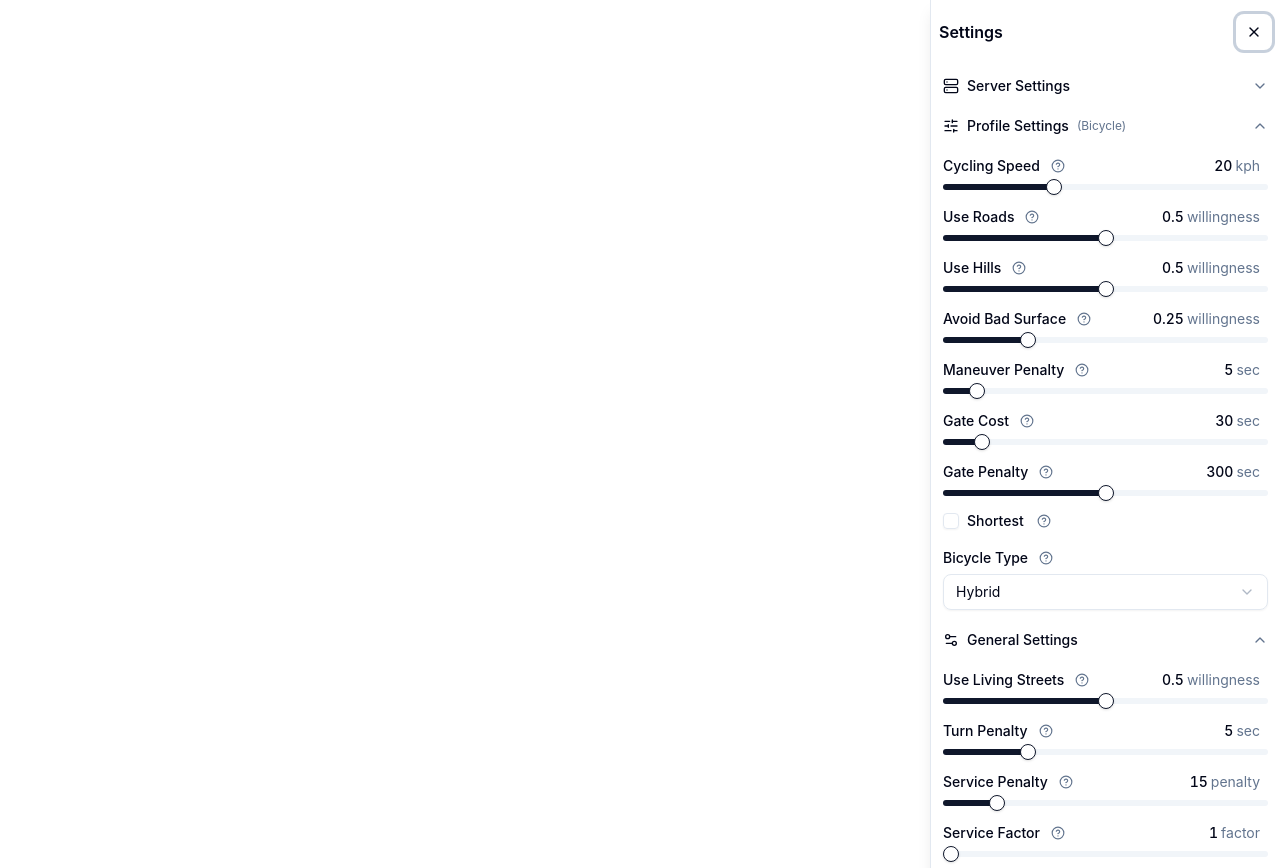
SettingsPanel › Server Settings › should show error for invalid URL format on blur
The image size is (1280, 868).
Click the button "Server Settings" at (1018, 86), box [943,72,1268,100]
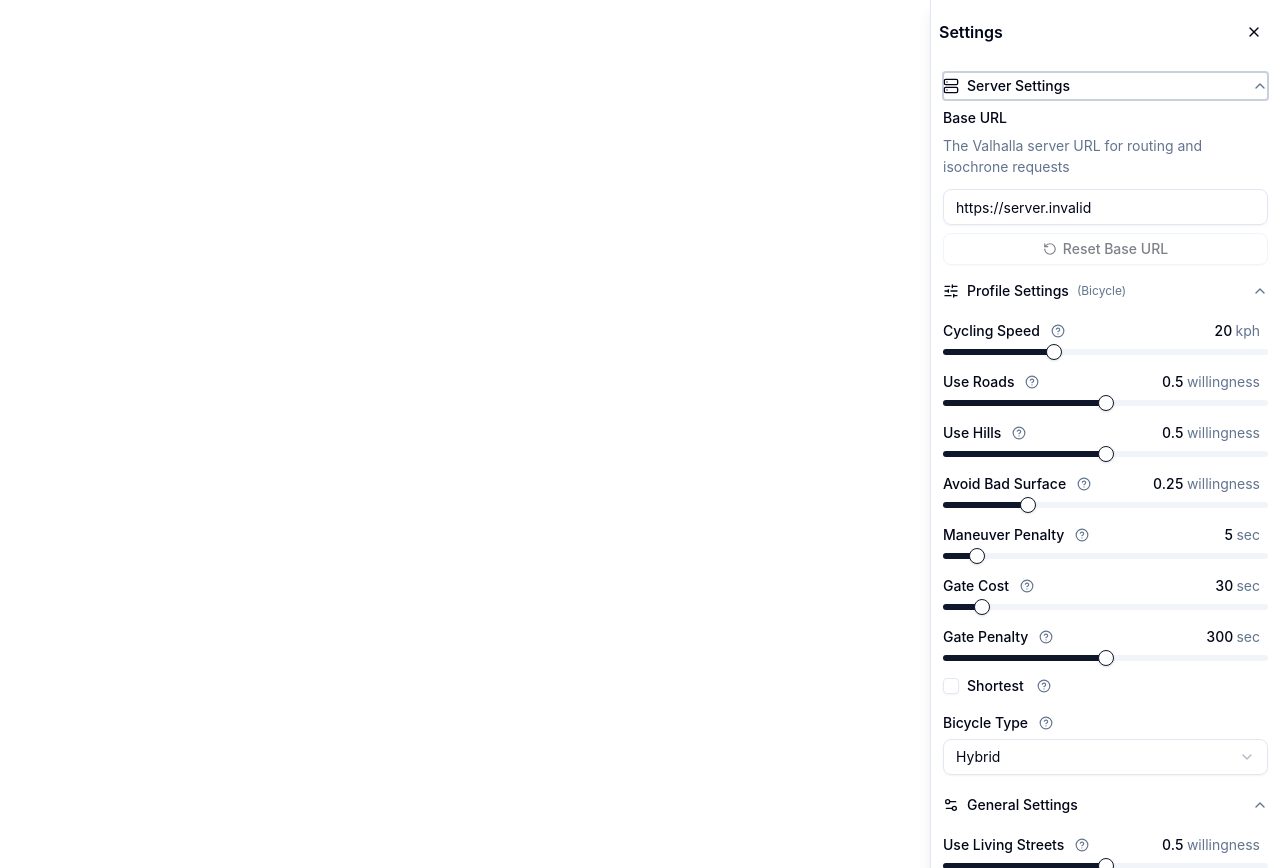
Replace the text in the field labelled "Base URL" with "not-a-valid-url" at (1106, 207), box [943,189,1268,225]
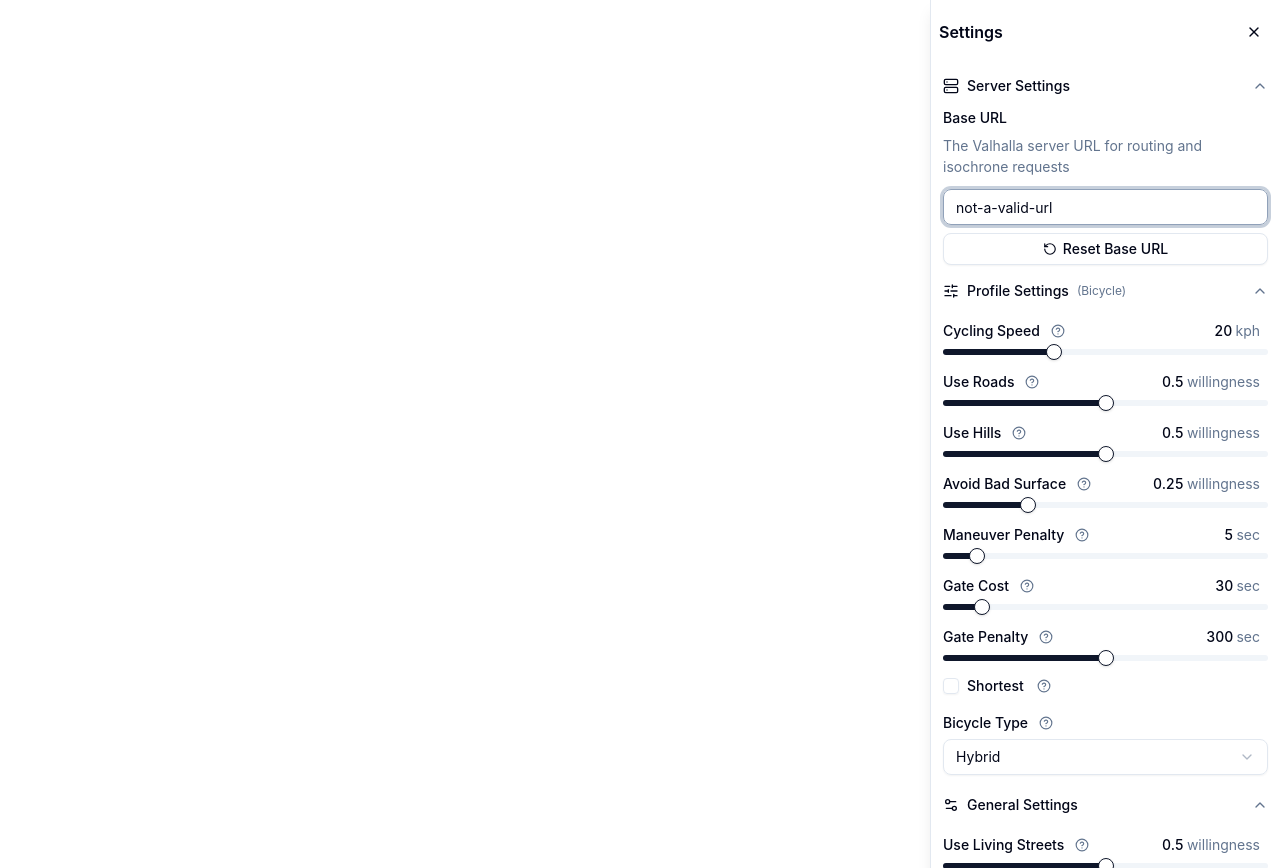
Press Tab
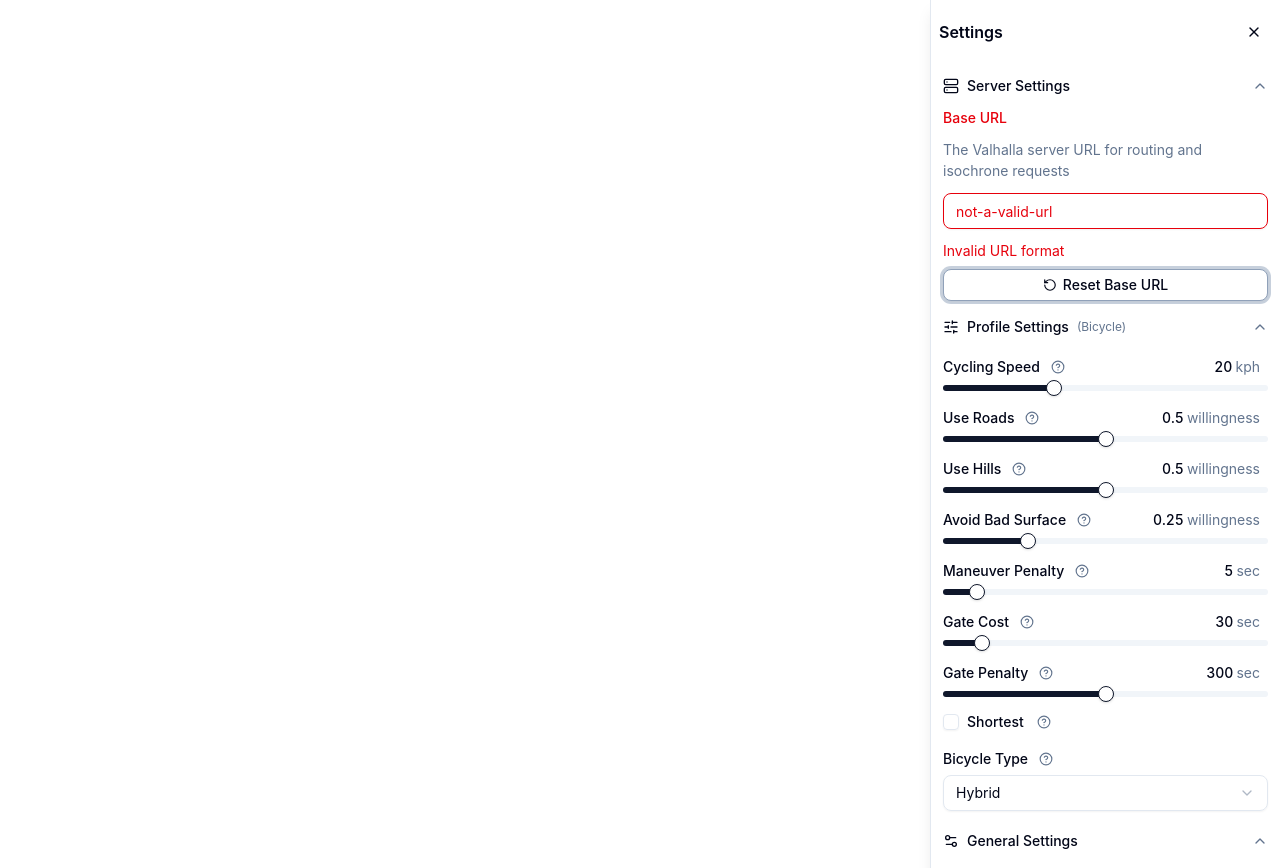
Expected: the text "Invalid URL format" is shown, [943,242,1064,259]
